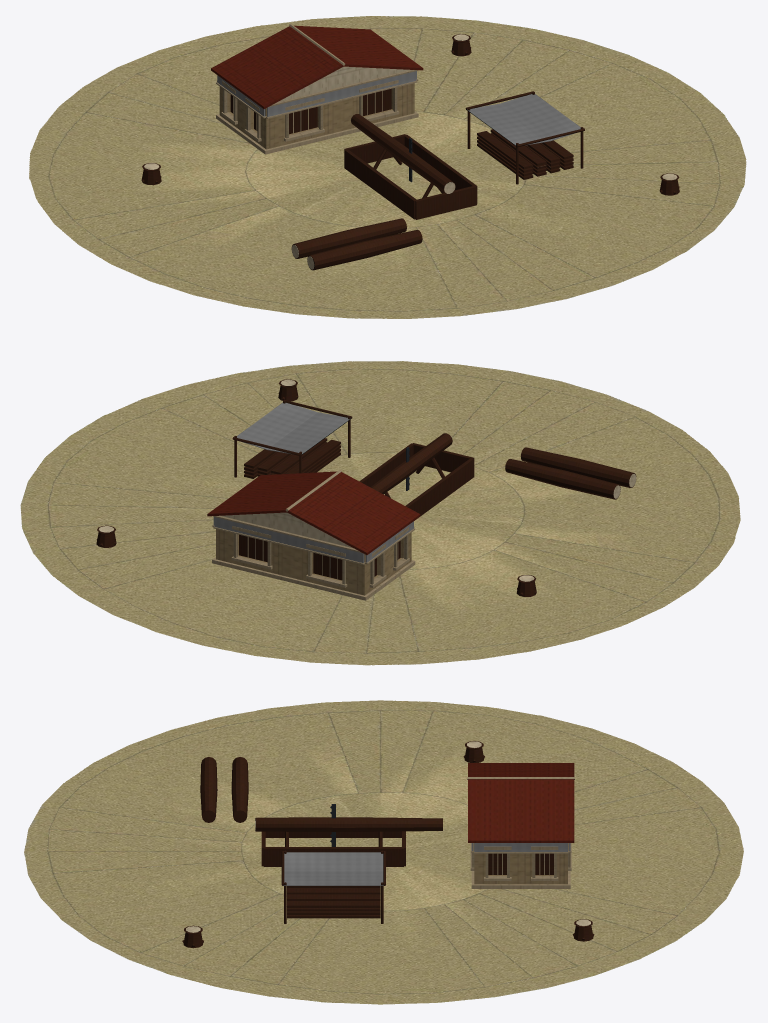
The model's file is lumber_camp-bronze-e6a8c0b3.glb.
3 renders of one model, top to bottom at view 1: azimuth 30°, elevation 25°; view 2: azimuth 150°, elevation 25°; view 3: azimuth 270°, elevation 25°, orthographic.
Visible parts, largest first — view 1: LOD0; view 2: LOD0; view 3: LOD0.
Part boxes in pixels (x1,y1,x2,y2): LOD0: [29, 16, 746, 318]; LOD0: [20, 361, 740, 665]; LOD0: [24, 700, 743, 1004].
Size of what is drawn, in the model's own units: 4.74 by 0.5257 by 4.74.
3 materials, 3 textured.
